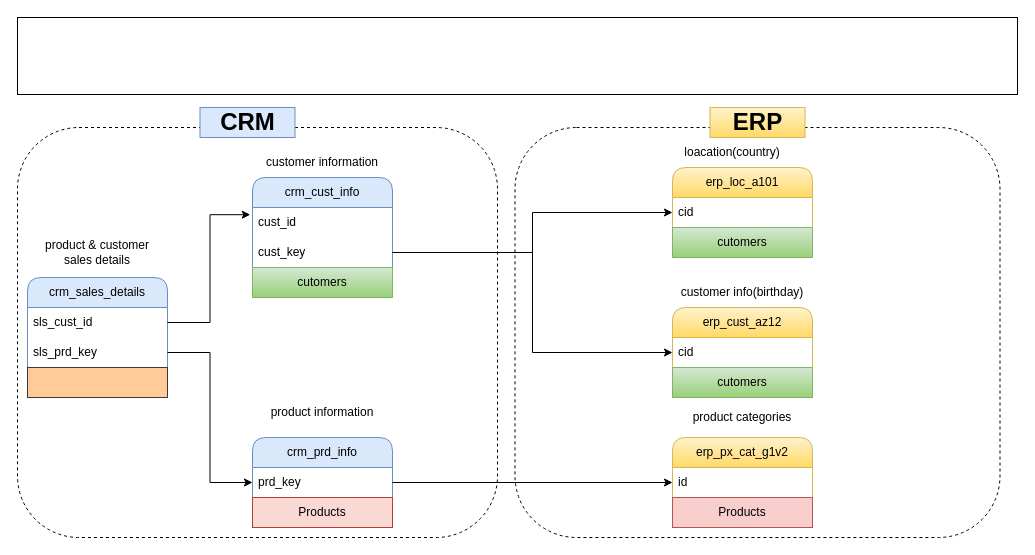
This 1035x555 diagram has some shape labels left out. The centre of each missing label's shape, as x and y in pixels:
INTEGRATION MODEL: point (517, 55)
sales: point (97, 382)
